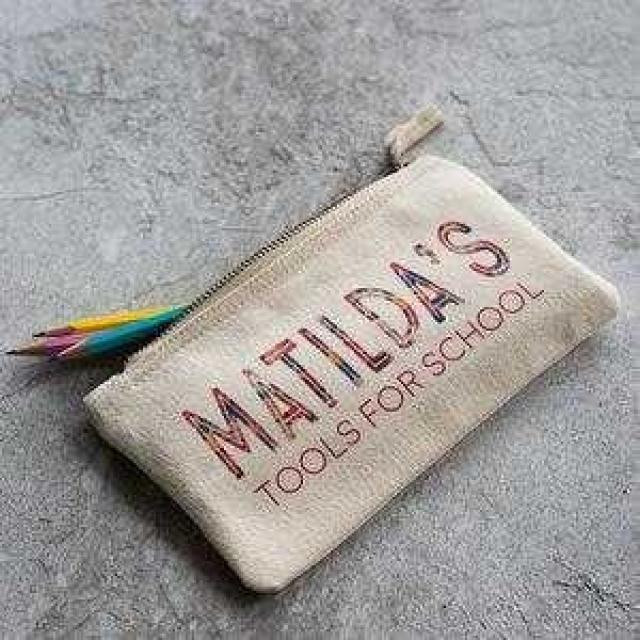pencil: (24, 299, 198, 372), (19, 294, 199, 345), (0, 323, 142, 360)
